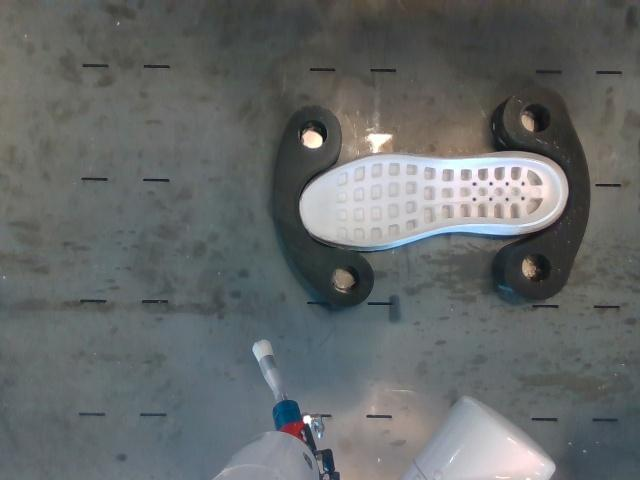shoes: (300, 155, 561, 246)
